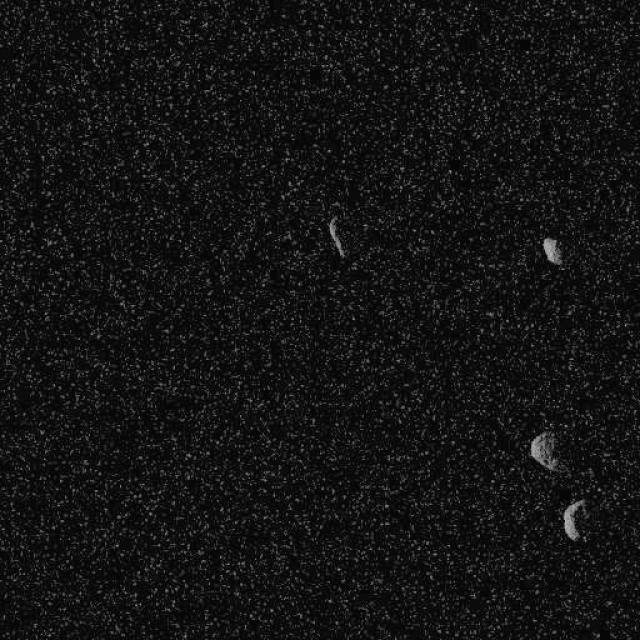D2: (528, 429, 570, 475), (562, 498, 588, 542), (326, 214, 346, 258), (540, 235, 562, 266)
